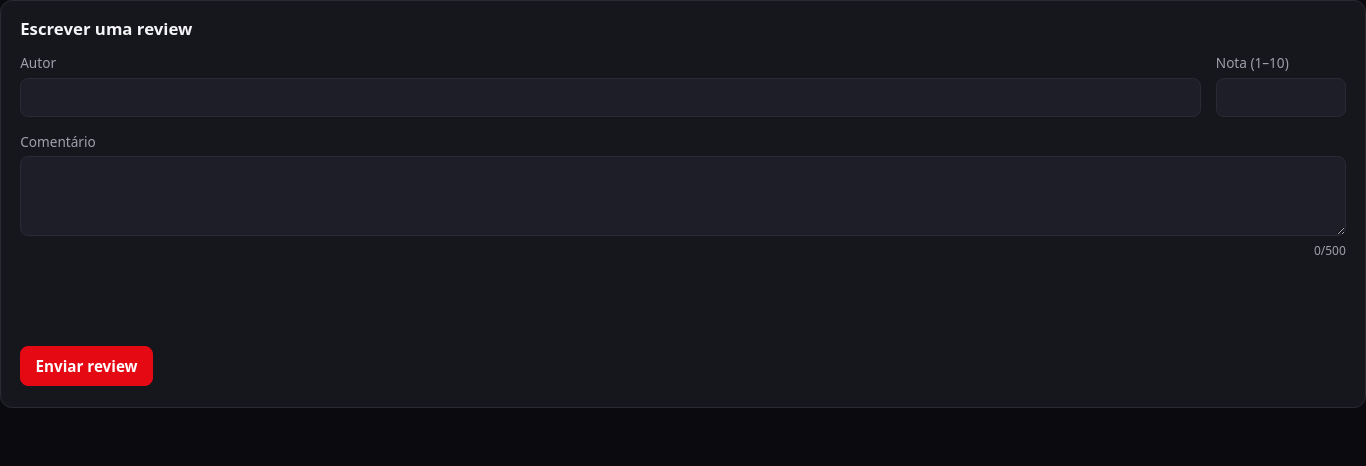
Test case: ReviewForm › blocks submission and shows errors when required fields are invalid
Click the button "Enviar review": (87, 366) left=20, top=346, right=153, bottom=386
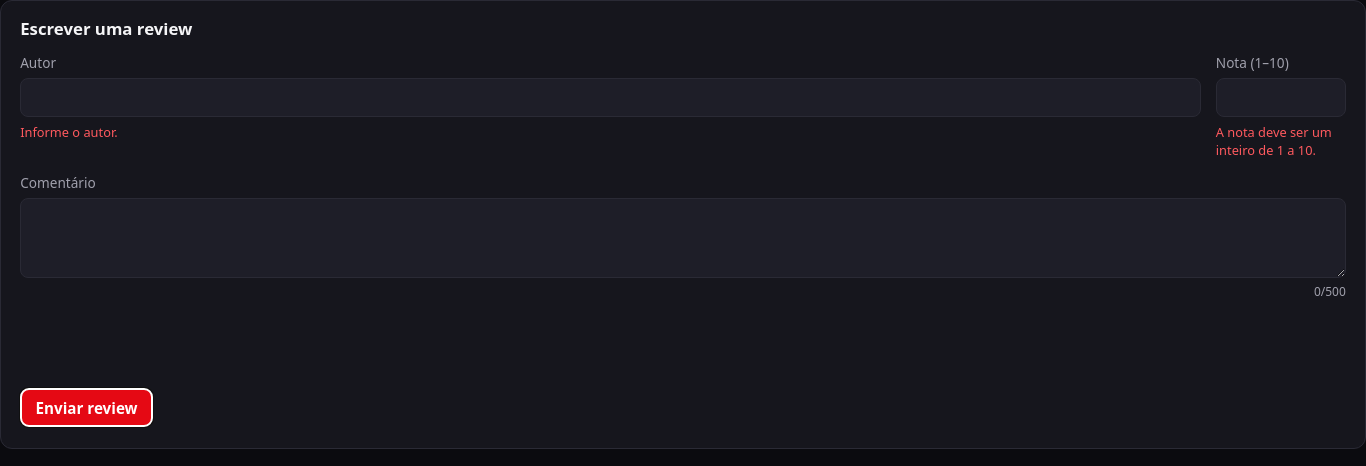
Now the text "Informe o autor." is shown, box left=20, top=123, right=118, bottom=141
Now the text "A nota deve ser um inteiro de 1 a 10." is shown, box left=1216, top=123, right=1346, bottom=159
